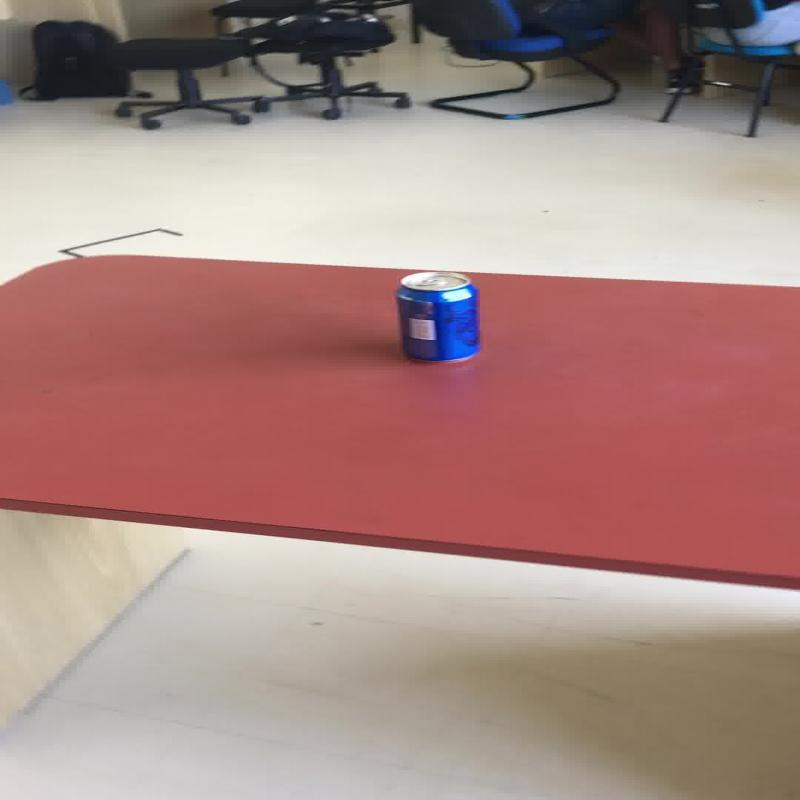tonic: (392, 270, 481, 362)
